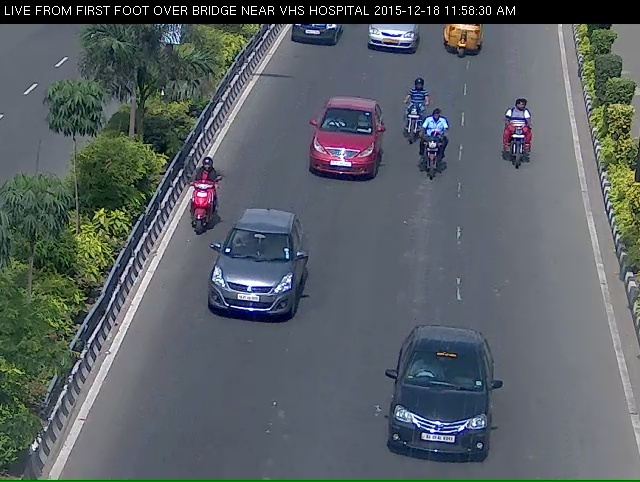Auto: (437, 21, 482, 66)
Car: (373, 358, 501, 478), (209, 232, 290, 351), (309, 110, 389, 198), (361, 21, 424, 74), (283, 20, 340, 61)
Person: (498, 101, 536, 182), (173, 170, 208, 251), (391, 85, 417, 159), (421, 117, 441, 190)
